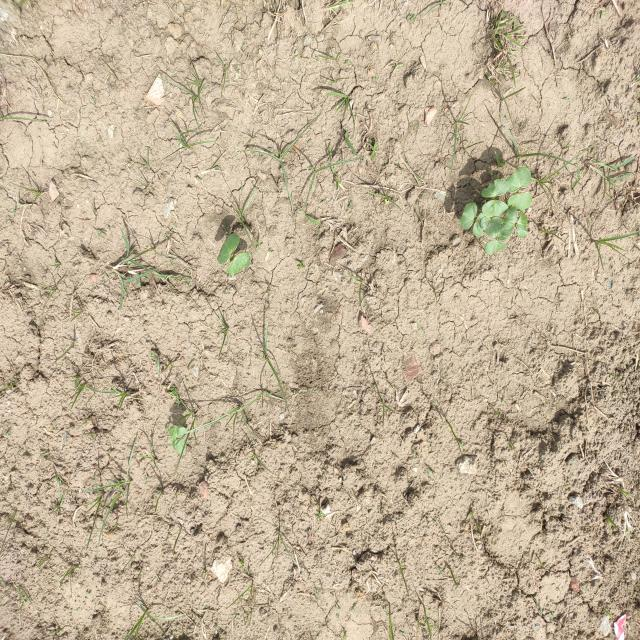seedling_s2: (217, 234, 240, 264), (506, 167, 531, 193), (226, 252, 251, 276), (500, 207, 518, 237), (481, 179, 509, 197), (460, 202, 477, 230), (481, 200, 509, 217), (507, 193, 532, 210), (485, 222, 508, 240), (472, 212, 485, 238), (484, 241, 506, 255), (480, 216, 502, 230), (517, 212, 528, 238), (168, 437, 187, 451), (169, 425, 186, 439)
